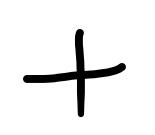plus: (22, 29, 126, 117)
